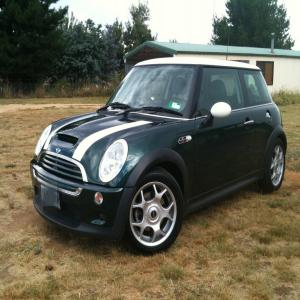Vehicle-registration-plate: (42, 186, 62, 210)
